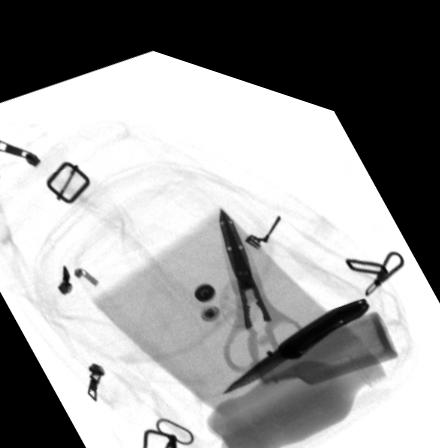Knife: (219, 273, 369, 379)
Scissors: (218, 192, 310, 360)
